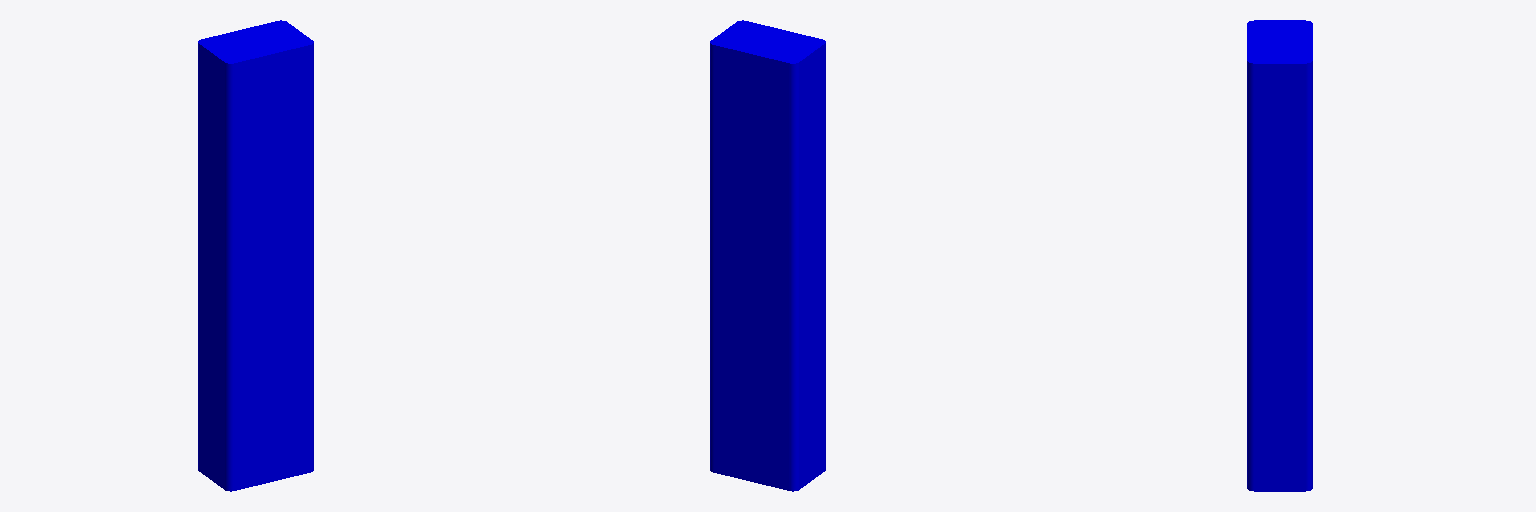
URDF robot description (board3_block14):
<?xml version="1.0"?>
<robot name="board3_block14">
    <link name="board3_block14">
        <visual>
            <origin xyz="0 0 0 " rpy=" 0 0 0"/>
            <geometry>
                <mesh filename="../meshes/SIMO_Board3_Block14.stl" scale="0.001 0.001 0.001"/>
            </geometry>
            <material name="red">
                <color rgba="0.0 0.0 1.0 1.0"/>
            </material>
        </visual>
        <collision>
            <origin xyz="0 0 0" rpy="0 0 0"/>
            <geometry>
                <mesh filename="../meshes/SIMO_Board3_Block14.stl" scale="0.001 0.001 0.001"/>
            </geometry>
        </collision>
    </link>
</robot>

--- What the picture shows (computed from the rendered views, not written in the file) ---
The picture shows the robot from 3 angles, left to right: view 1: azimuth 30°, elevation 25°; view 2: azimuth 150°, elevation 25°; view 3: azimuth 270°, elevation 25°; orthographic projection.
Model board3_block14 with 1 links and 0 joints (none), rooted at board3_block14, posed all joints at 0.
Visible links, largest first — view 1: board3_block14; view 2: board3_block14; view 3: board3_block14.
Link boxes in pixels (x1,y1,x2,y2): board3_block14: [198, 20, 313, 491]; board3_block14: [710, 20, 825, 491]; board3_block14: [1247, 20, 1312, 491].
Size in the robot's own frame: 0.0324 by 0.0208 by 0.15 metres.
1 mesh visuals loaded from 1 distinct referenced files (1 ASCII STL).
